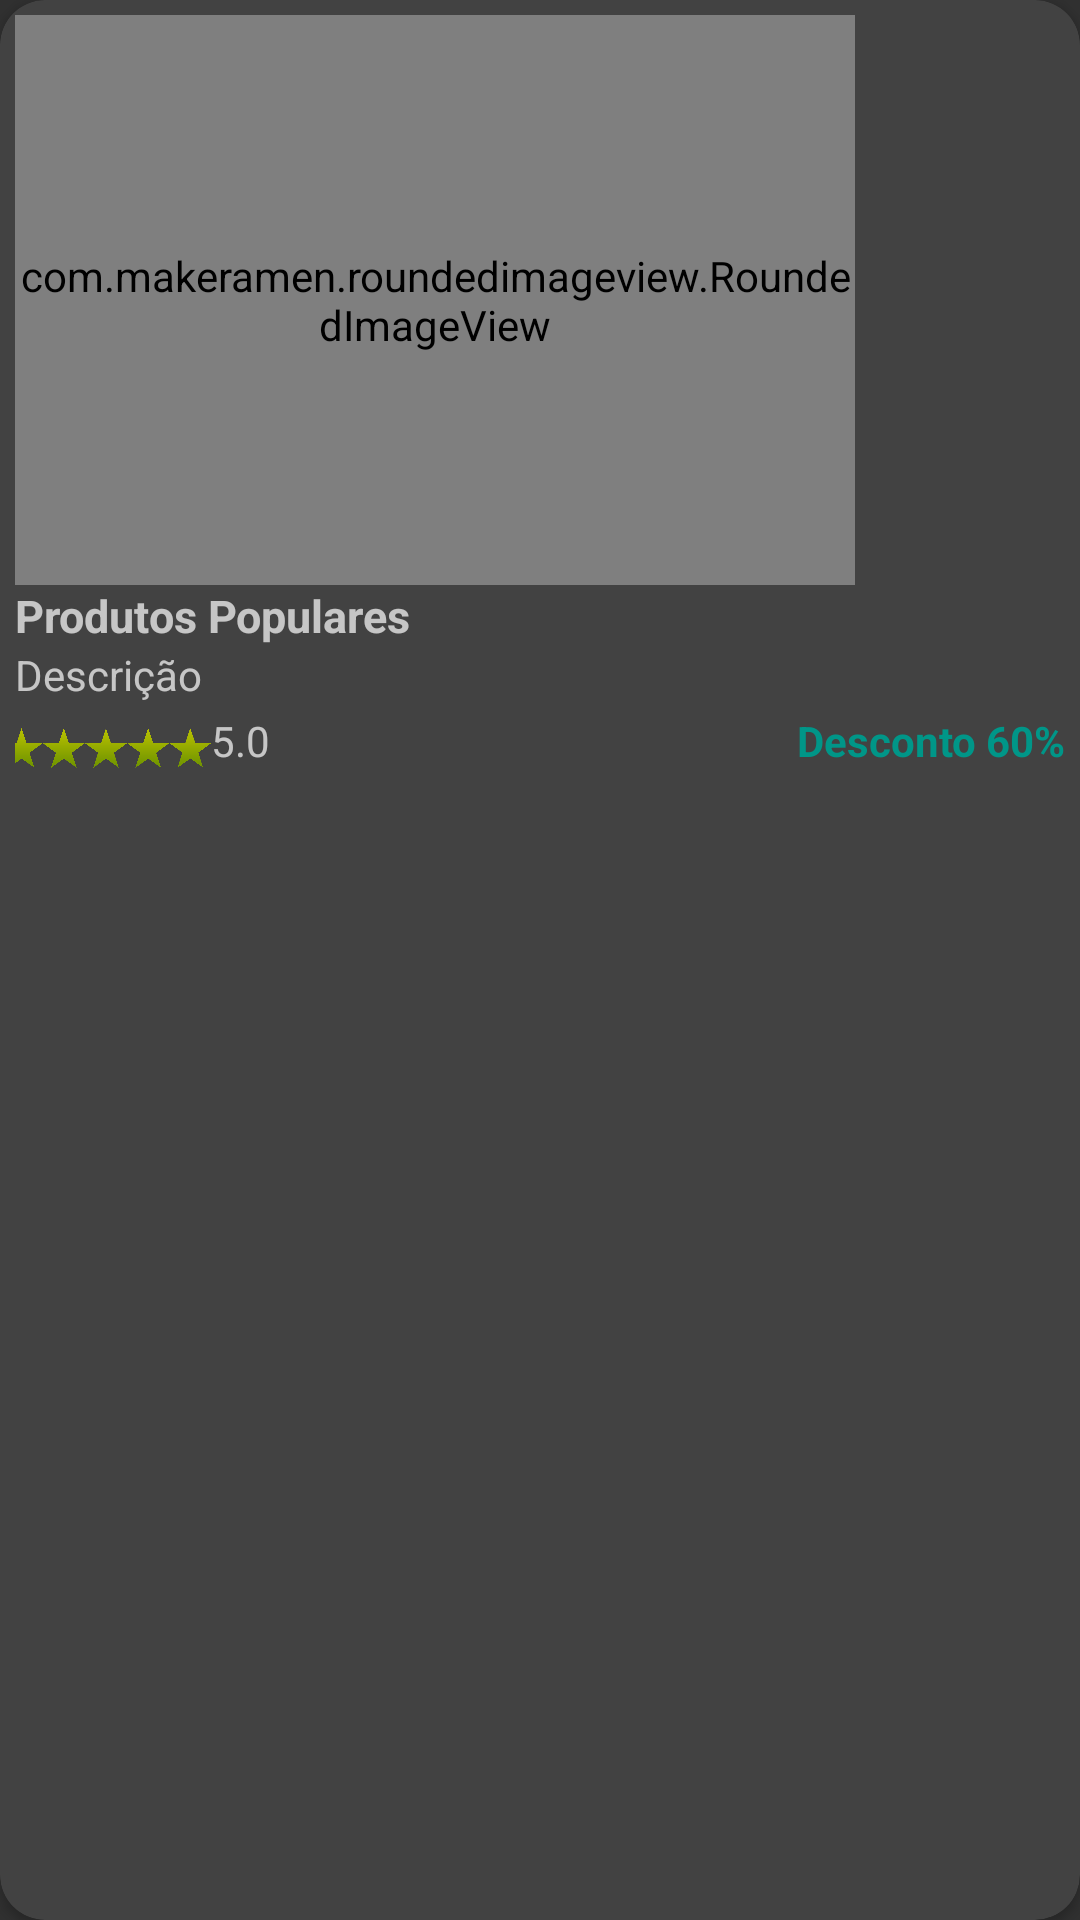

Where to tap for icons on this 1080 x 1920 app screen, as (x,y):
rate: (113,748)
